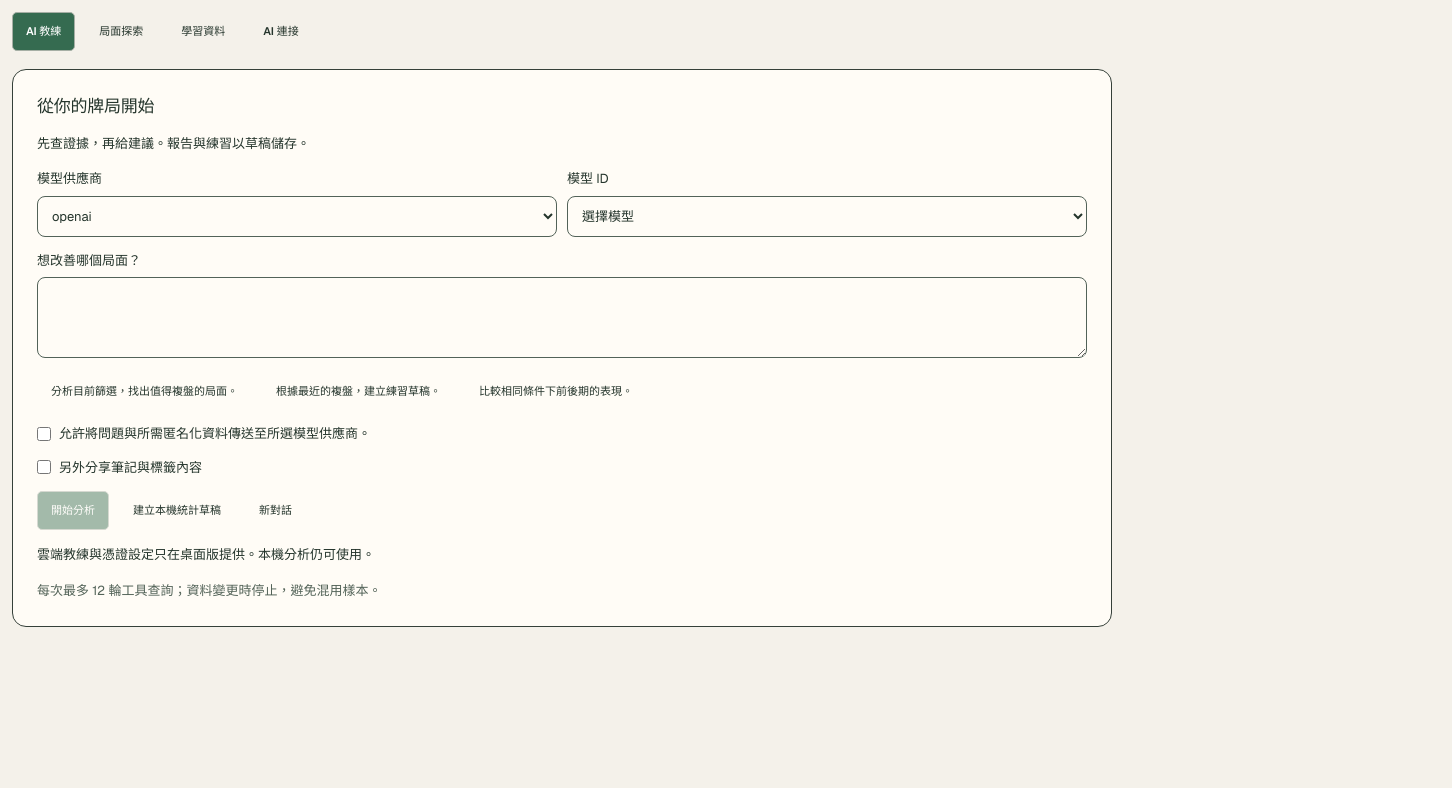
filters categorized reports and keeps the original section text
Click the button "學習資料". click: (203, 31)
box: [167,12,239,50]
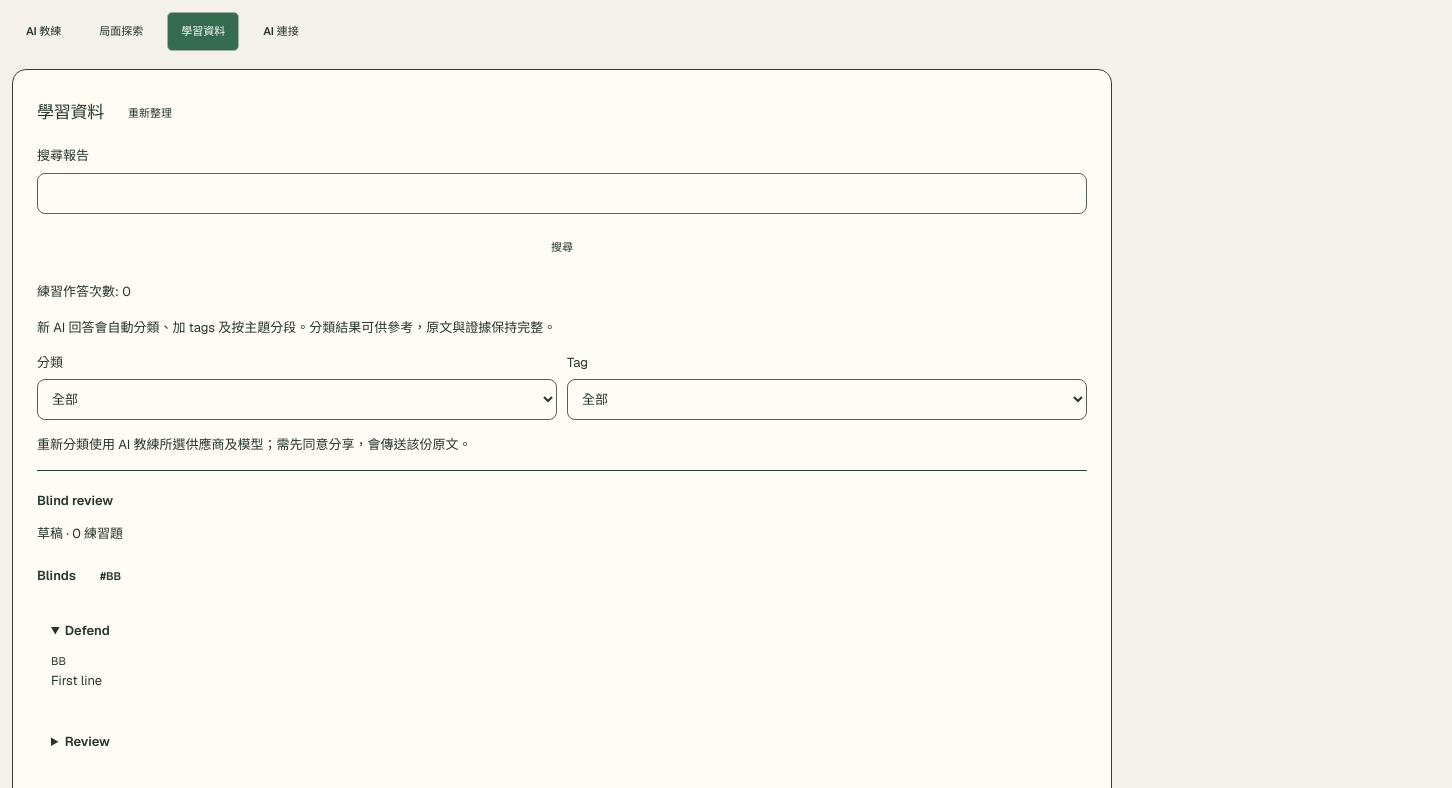
Expected: the heading "Blind review" is shown, [37,492,113,509]
Expected: the text "First line" is shown, [51,672,102,689]
Select "Blinds" in the dropdown labelled "分類". click: (297, 400)
box: [37,379,557,420]
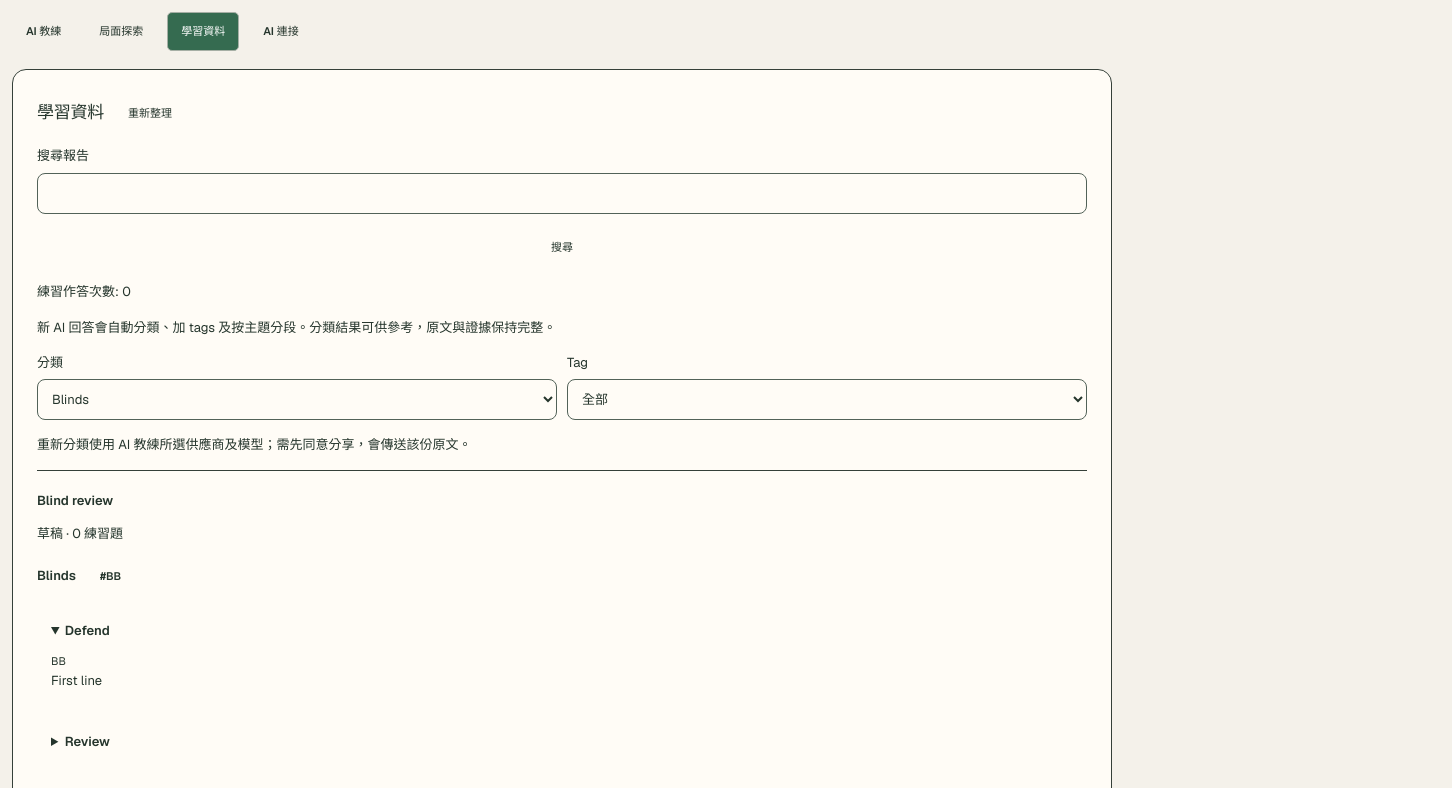
Expected: the heading "Blind review" is shown, [37,492,113,509]
Click the button "#BB". click: (111, 576)
box: [86,557,135,595]
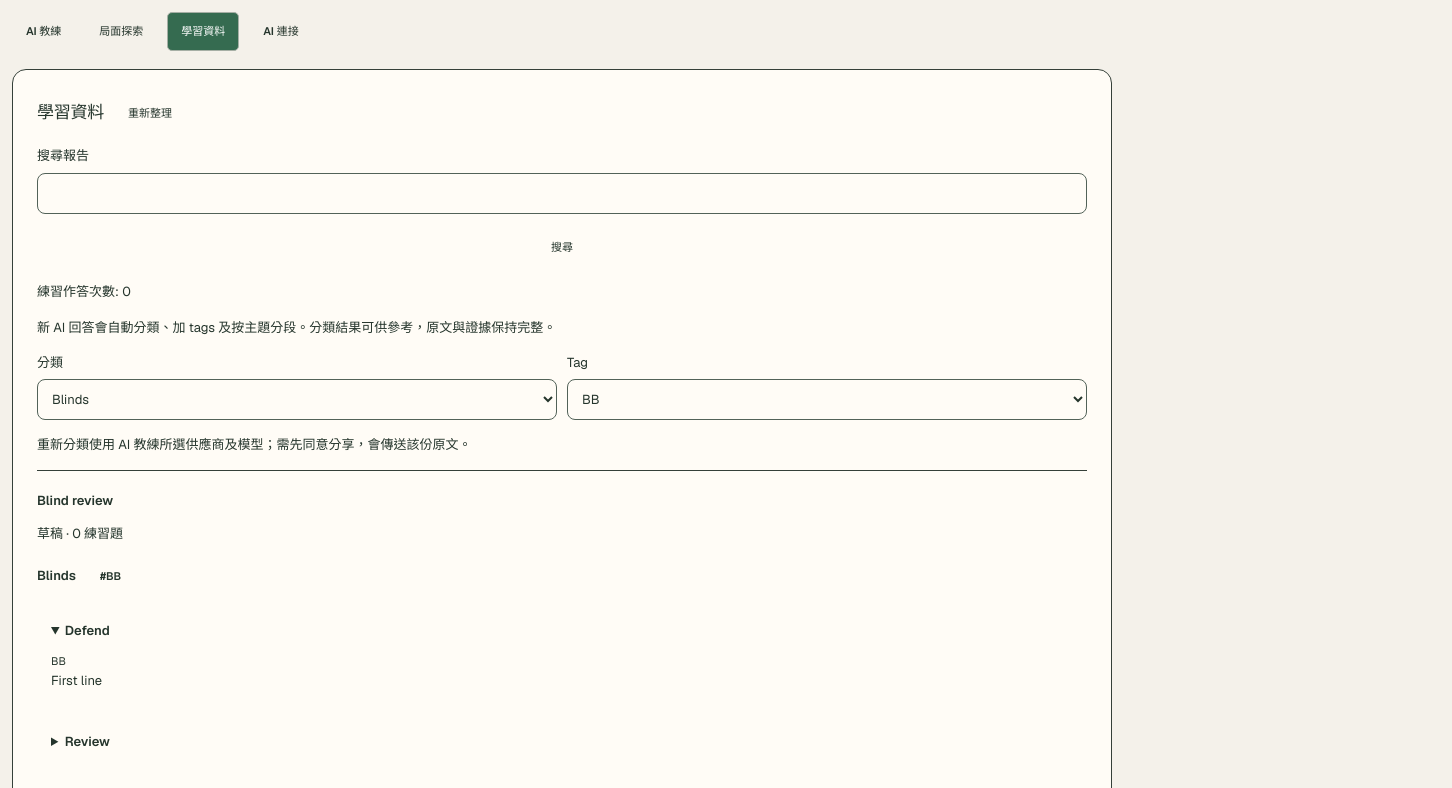
Expected: the dropdown labelled "Tag" shows "BB", [567,379,1087,420]
